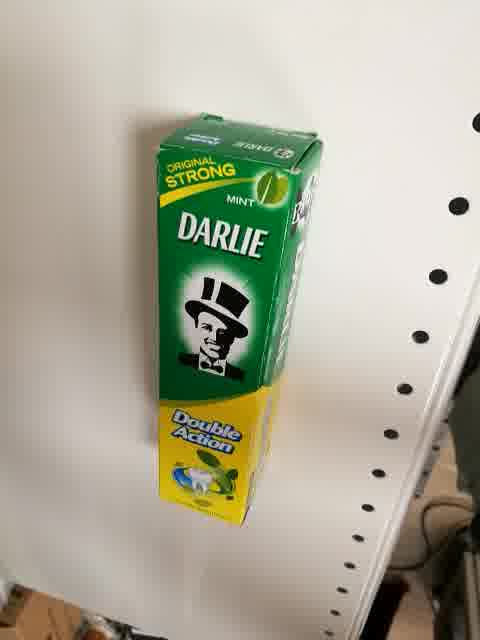toothpaste: (153, 112, 323, 527)
